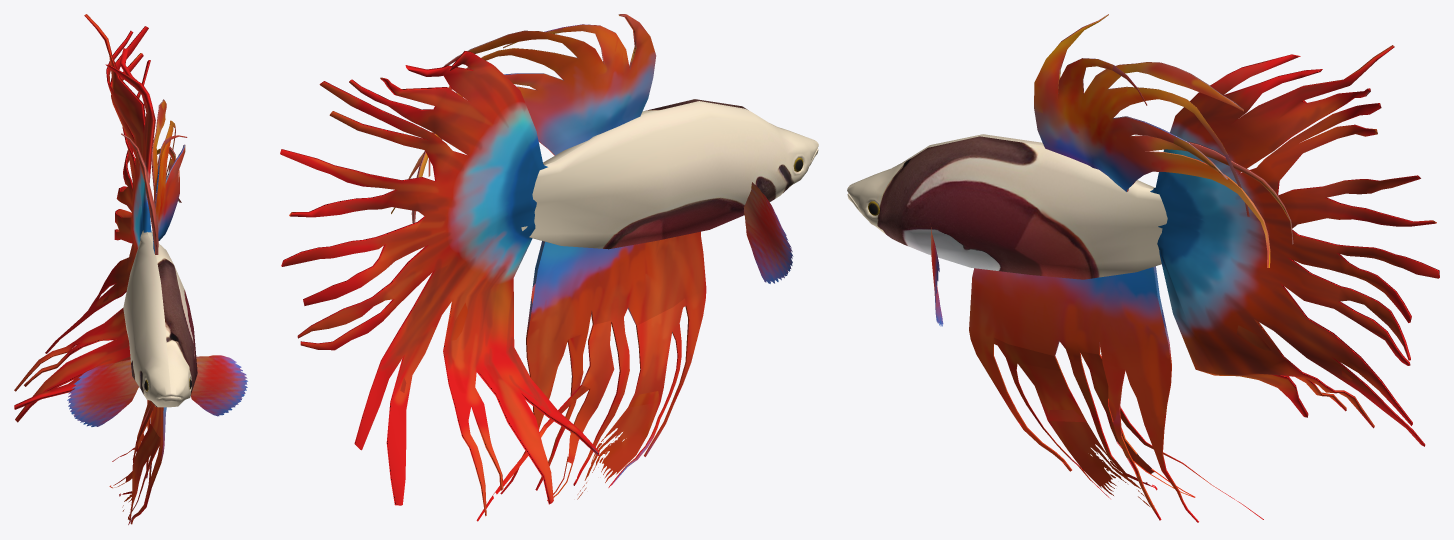
File: fish.obj
3 views of the same model, side by side, from view 1: azimuth 30°, elevation 25°; view 2: azimuth 150°, elevation 25°; view 3: azimuth 270°, elevation 25° (orthographic). The views are drawn at different scales.
Visible parts, largest first — view 1: BackFin_fin_back_0, Body_body_0, UpperFin_fin_top_0, Fin_l_Fin_down_0, Fin_r_Fin_down_0, BottomFin_Fin_down_0; view 2: BackFin_fin_back_0, Body_body_0, BottomFin_Fin_down_0, UpperFin_fin_top_0, Fin_l_Fin_down_0; view 3: BackFin_fin_back_0, Body_body_0, BottomFin_Fin_down_0, UpperFin_fin_top_0.
Boxes of the visible parts, left/top/right/bottom form: BackFin_fin_back_0: left=14, top=14, right=155, bottom=422; Body_body_0: left=123, top=230, right=197, bottom=407; UpperFin_fin_top_0: left=121, top=99, right=187, bottom=254; Fin_l_Fin_down_0: left=67, top=359, right=138, bottom=426; Fin_r_Fin_down_0: left=191, top=355, right=247, bottom=416; BottomFin_Fin_down_0: left=109, top=400, right=166, bottom=524; BackFin_fin_back_0: left=280, top=51, right=599, bottom=516; Body_body_0: left=521, top=99, right=818, bottom=249; BottomFin_Fin_down_0: left=476, top=231, right=706, bottom=521; UpperFin_fin_top_0: left=391, top=14, right=656, bottom=223; Fin_l_Fin_down_0: left=743, top=182, right=793, bottom=283; BackFin_fin_back_0: left=1150, top=45, right=1439, bottom=446; Body_body_0: left=847, top=134, right=1167, bottom=279; BottomFin_Fin_down_0: left=969, top=266, right=1263, bottom=522; UpperFin_fin_top_0: left=1034, top=14, right=1293, bottom=267.
Size of the model in its own units: 0.7336 by 1.14 by 1.2.
